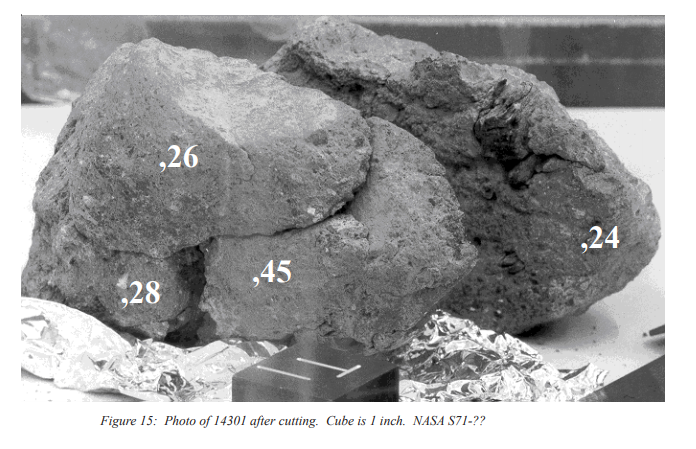Breccia: (80, 31, 650, 330), (320, 32, 646, 311), (35, 119, 335, 318)
